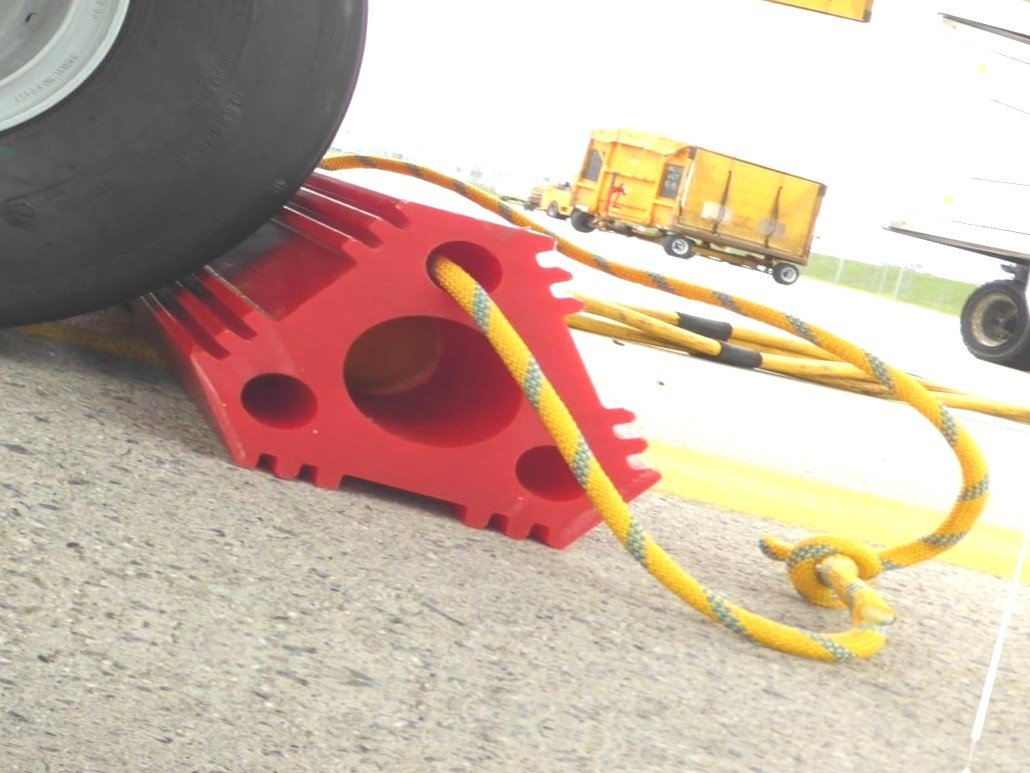chock: (93, 130, 716, 573)
wheel: (0, 0, 384, 435), (952, 273, 1030, 377), (660, 231, 697, 260), (769, 259, 800, 287), (569, 207, 599, 234), (540, 197, 567, 221)
